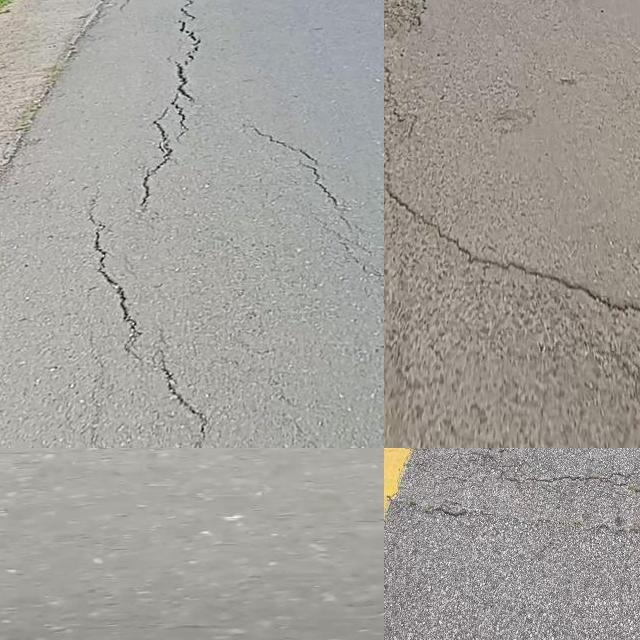Melintang: (384, 191, 640, 329)
Memanjang: (76, 200, 220, 443), (136, 0, 203, 217), (384, 0, 446, 186)
